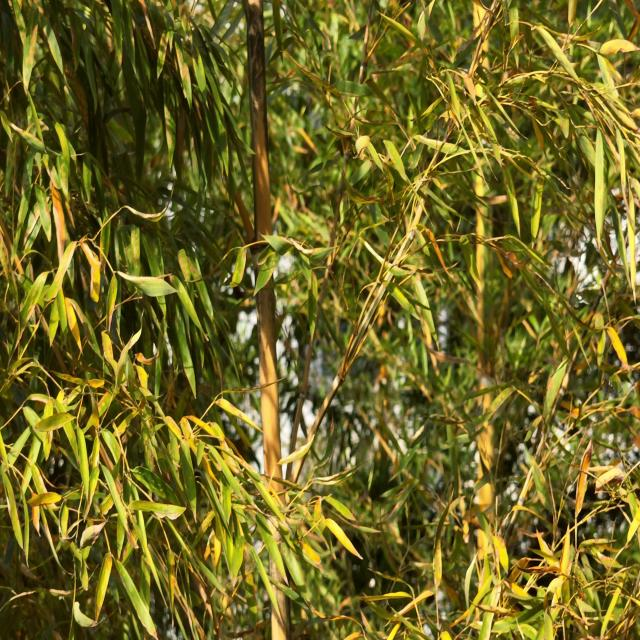Bamboo-shoots: (246, 0, 292, 640)
